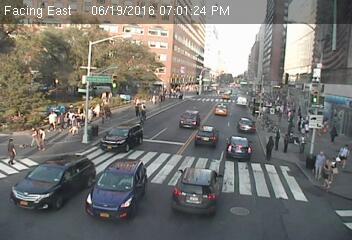neg: (134, 39, 168, 84), (197, 112, 221, 143), (133, 156, 155, 186), (232, 134, 252, 161), (205, 176, 219, 195)
